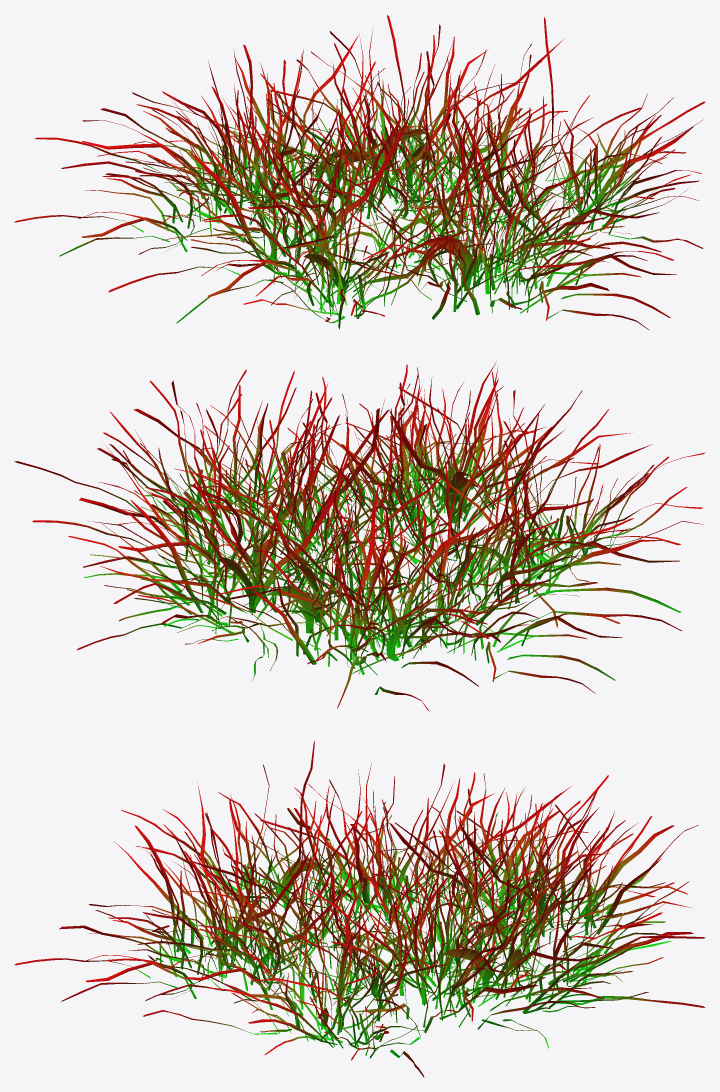
File: Tundra Grass_LOD0_Var27_wk2oaeyqx.fbx
3 renders of one model, top to bottom at view 1: azimuth 30°, elevation 25°; view 2: azimuth 150°, elevation 25°; view 3: azimuth 270°, elevation 25°, orthographic. The views are drawn at different scales.
Parts seen in each view (by area): view 1: _cnac_Var27_LOD0; view 2: _cnac_Var27_LOD0; view 3: _cnac_Var27_LOD0.
Boxes of the visible parts, box(x1,y1,x2,y2) form: _cnac_Var27_LOD0: box(14, 15, 705, 330); _cnac_Var27_LOD0: box(14, 361, 705, 711); _cnac_Var27_LOD0: box(14, 741, 705, 1077).
Size of the model in its own units: 78.38 by 21.68 by 75.47.
